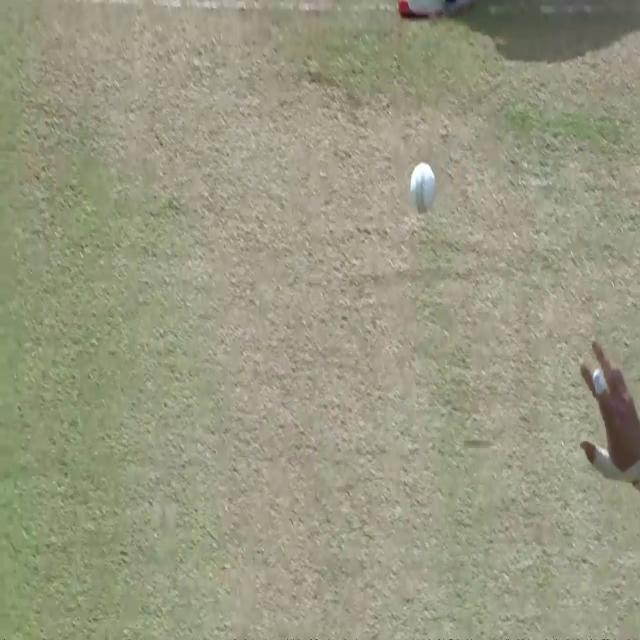ball: (410, 163, 437, 214)
